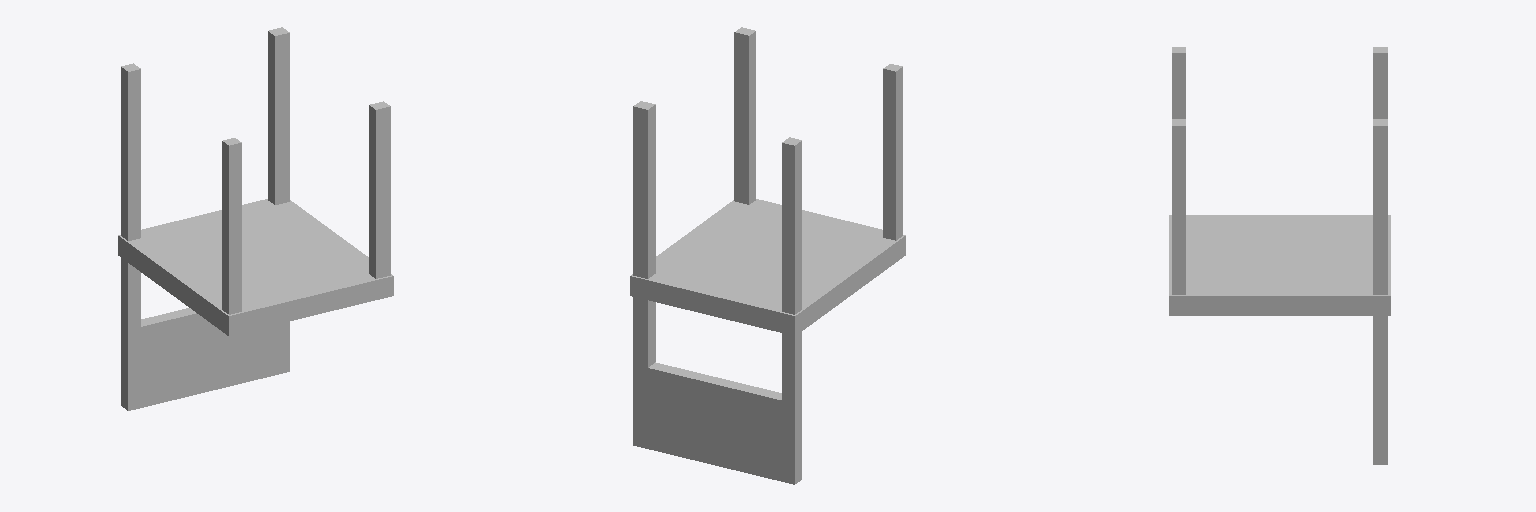
Rendered from chair.OBJ.
3 renders of one model, left to right at view 1: azimuth 30°, elevation 25°; view 2: azimuth 150°, elevation 25°; view 3: azimuth 270°, elevation 25°, orthographic.
Visible parts, largest first — view 1: Group31824, Group35341; view 2: Group31824, Group35341; view 3: Group31824, Group35341.
Boxes of the visible parts, <box> form: Group31824: <box>118,199,393,410</box>; Group35341: <box>121,27,390,329</box>; Group31824: <box>630,199,905,484</box>; Group35341: <box>633,27,902,403</box>; Group31824: <box>1169,215,1390,464</box>; Group35341: <box>1172,47,1387,383</box>.
Bounding box in the file's own units: 1.12 × 2.19 × 1.29.